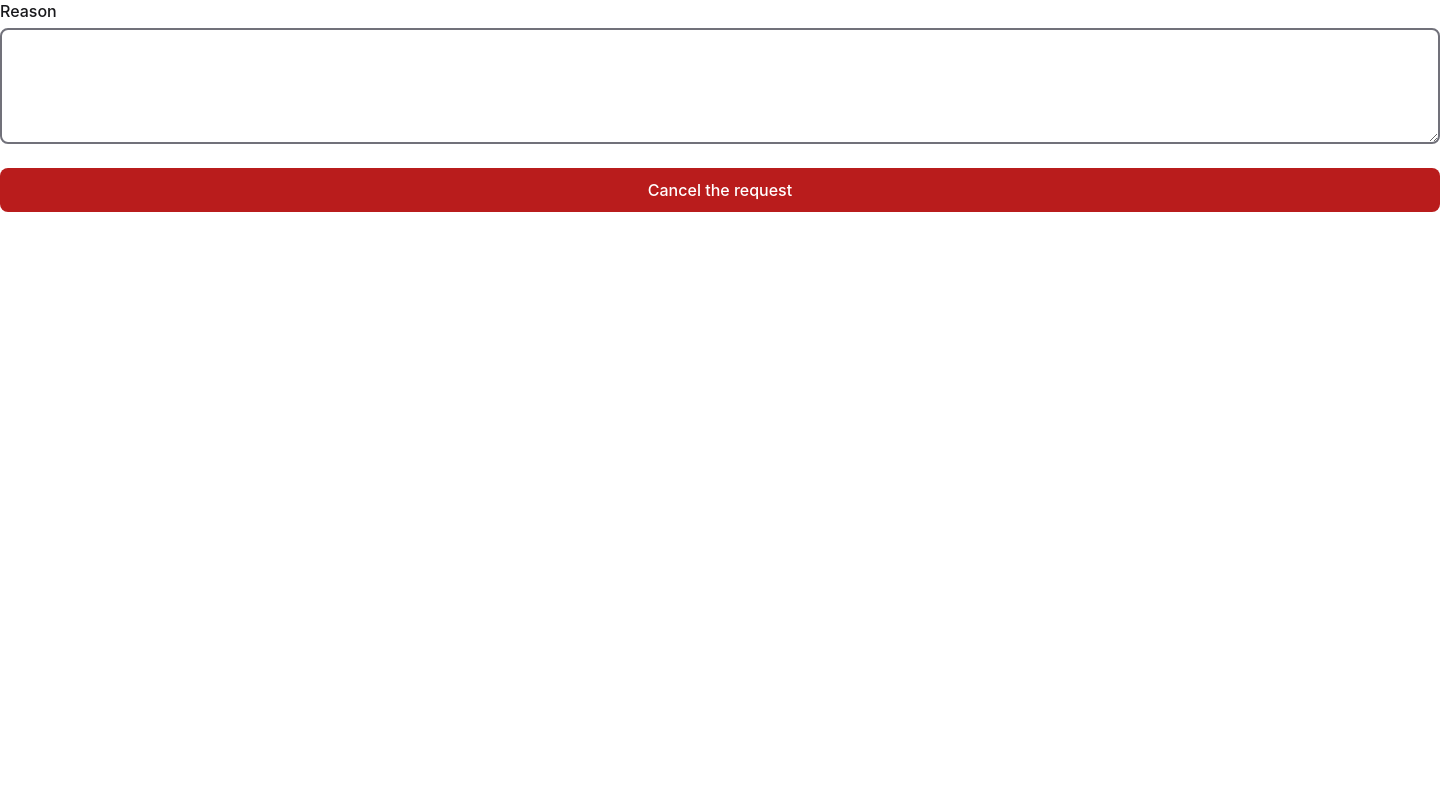
Test case: ConfirmDialog › asks twice before an action that cannot be undone, the focus moving to the second question
This screenshot has width=1440, height=810.
Later steps or results of the test are not shown.
Click the button "Cancel the request" at (720, 190), box [0,168,1439,212]
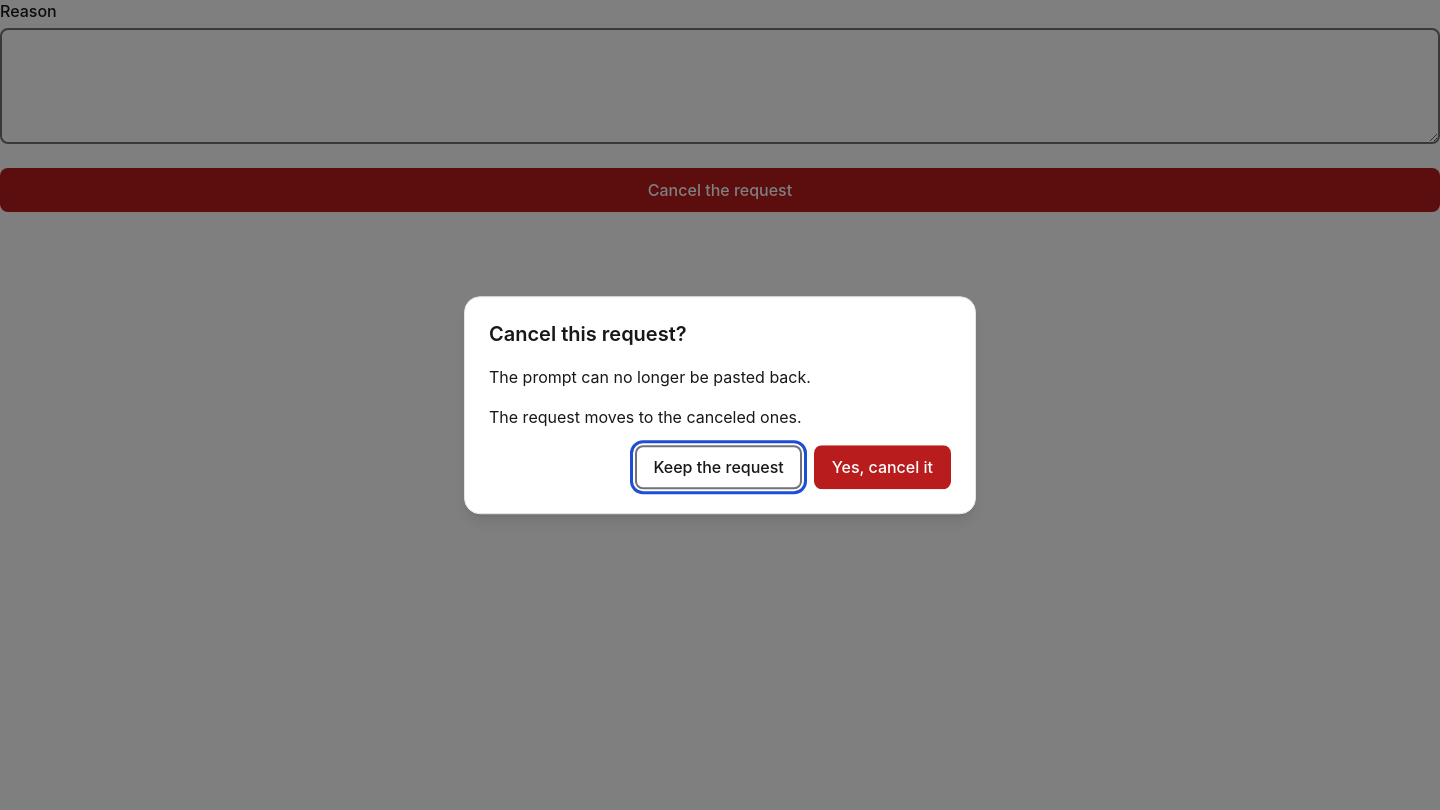
Click the button "Yes, cancel it" at (882, 467), box [814,445,951,489]
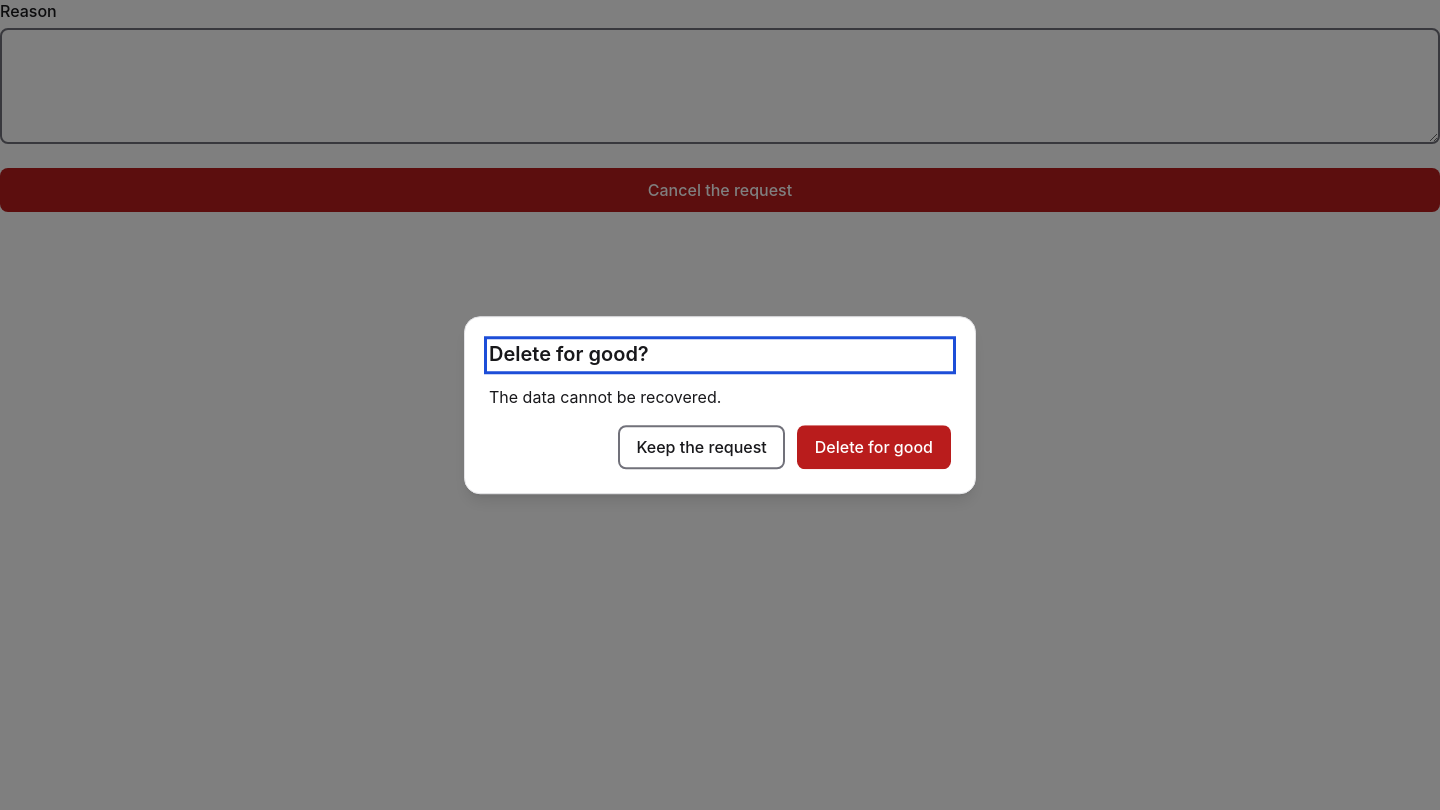
Expected: the text "The request moves to the canceled ones." is gone
